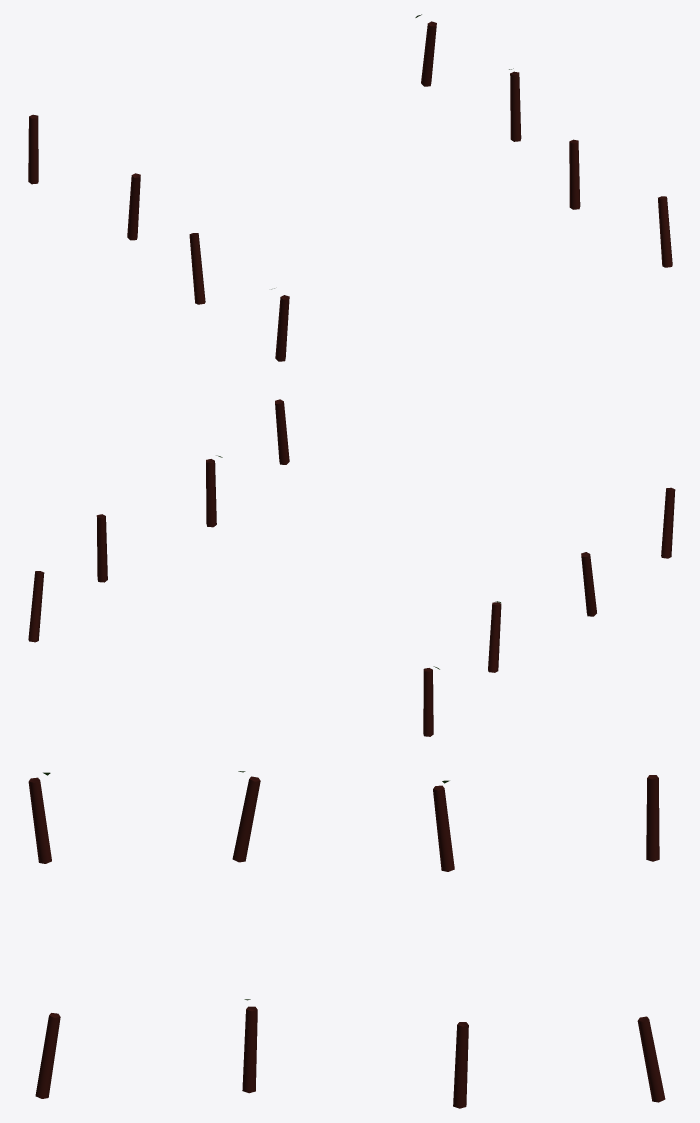
File: fm_cassava_1_lod1.glb
3 renders of one model, top to bottom at view 1: azimuth 30°, elevation 25°; view 2: azimuth 150°, elevation 25°; view 3: azimuth 270°, elevation 25°, orthographic. The views are drawn at different scales.
Visible parts, largest first — view 1: fm_cassava_1_lod1; view 2: fm_cassava_1_lod1; view 3: fm_cassava_1_lod1.
Part boxes in pixels (x1,y1,x2,y2): fm_cassava_1_lod1: (28, 14, 672, 361); fm_cassava_1_lod1: (28, 399, 675, 736); fm_cassava_1_lod1: (28, 771, 665, 1108).
Size of the model in its own units: 2.28 by 0.3458 by 2.39.
